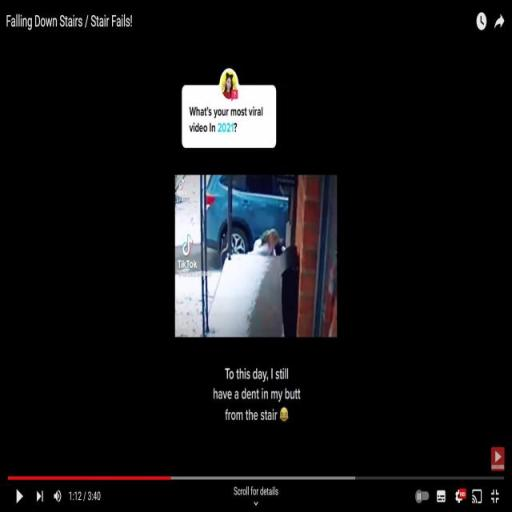Fall: (254, 227, 286, 260)
